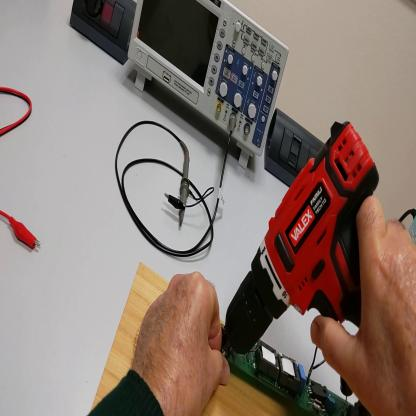electric screwdriver: (223, 121, 379, 353)
hand: (313, 195, 416, 416), (130, 269, 229, 412)
high voltage board: (220, 324, 371, 416)
oscilloscope: (127, 2, 289, 172)
oscilloscope probe tip: (177, 144, 191, 228)
socket: (70, 2, 139, 66)
welder station: (409, 209, 416, 246)
working area: (92, 264, 296, 416)
